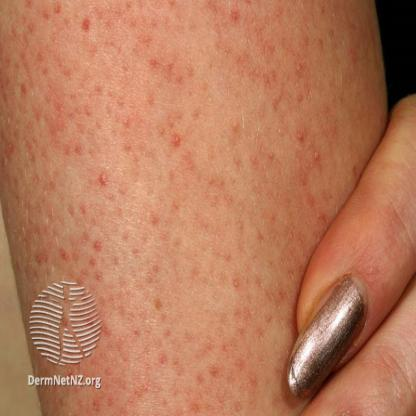Chicken Skin: (11, 0, 336, 399)
